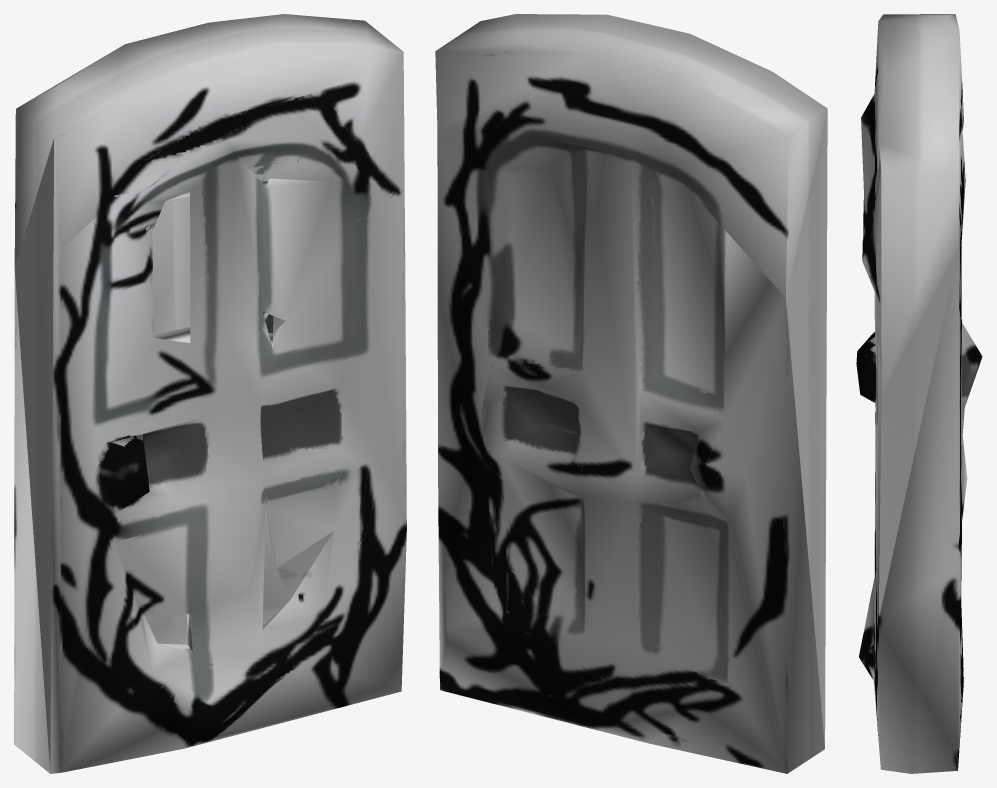
Rendered from exit-door-ud.glb.
3 views of the same model, side by side, from view 1: azimuth 30°, elevation 25°; view 2: azimuth 150°, elevation 25°; view 3: azimuth 270°, elevation 25° (orthographic). The views are drawn at different scales.
Visible parts, largest first — view 1: geometry_0.001; view 2: geometry_0.001; view 3: geometry_0.001.
Boxes of the visible parts, x1,y1,x2,y2 form: geometry_0.001: [14, 14, 406, 773]; geometry_0.001: [435, 14, 827, 773]; geometry_0.001: [856, 14, 982, 773].
Size of the model in its own units: 0.5396 by 0.998 by 0.1786.
1 material, 1 textured.
